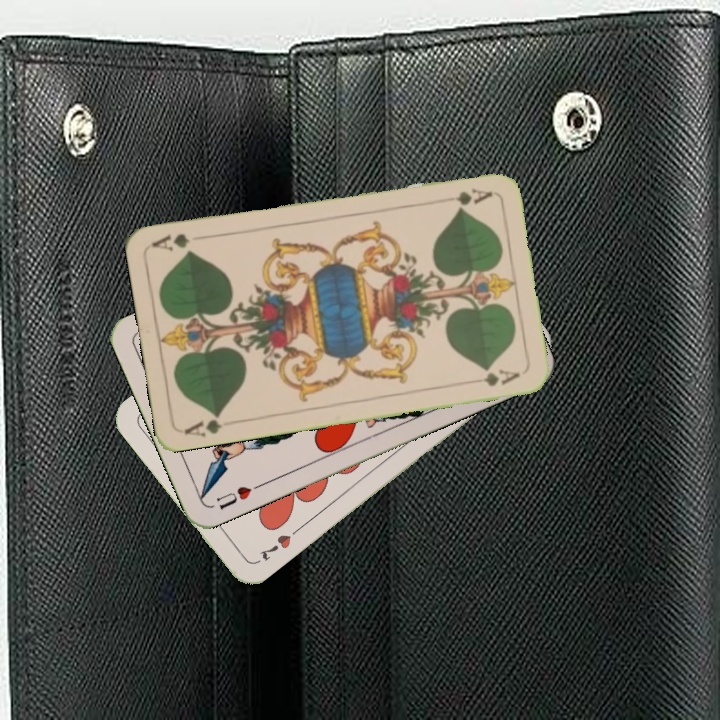GA: (436, 184, 495, 208), (180, 409, 225, 439)
H7: (255, 530, 294, 563)
HU: (212, 479, 265, 512)
